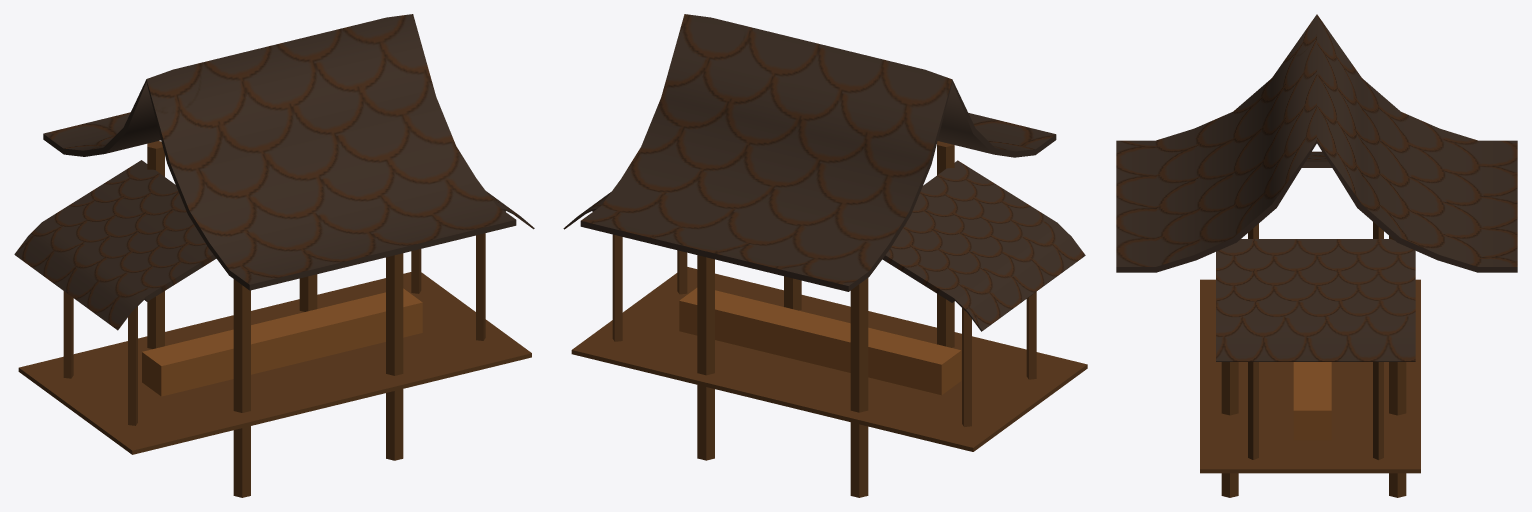
Rendered from barrack_md.fbx.
3 views of the same model, side by side, from view 1: azimuth 30°, elevation 25°; view 2: azimuth 150°, elevation 25°; view 3: azimuth 270°, elevation 25° (orthographic). The views are drawn at different scales.
Visible parts, largest first — view 1: pPlane1, pCube1, pPlane3, pCube2, pCylinder25, pCylinder24, pCylinder26, pCylinder20, pCylinder21, pCylinder16, pCylinder23; view 2: pPlane1, pCube1, pPlane3, pCube2, pCylinder26, pCylinder23, pCylinder25, pCylinder22, pCylinder16, pCylinder20; view 3: pPlane1, pPlane2, pCube1, pCube2, pCylinder23, pCylinder24, pCylinder21, pCylinder22.
Part boxes in pixels (box(x1,y1,x2,y2)): pPlane1: box(43, 14, 516, 290); pCube1: box(18, 272, 531, 454); pPlane3: box(14, 160, 216, 330); pCube2: box(142, 288, 422, 396); pCylinder25: box(233, 279, 250, 497); pCylinder24: box(386, 253, 403, 460); pCylinder26: box(147, 141, 164, 348); pCylinder20: box(128, 306, 137, 425); pCylinder21: box(476, 233, 485, 340); pCylinder16: box(63, 291, 73, 378); pCylinder23: box(299, 274, 317, 311); pPlane1: box(580, 14, 1056, 291); pCube1: box(571, 267, 1087, 451); pPlane3: box(882, 160, 1085, 331); pCube2: box(679, 288, 961, 395); pCylinder26: box(850, 278, 868, 497); pCylinder23: box(697, 255, 714, 460); pCylinder25: box(937, 141, 954, 347); pCylinder22: box(612, 234, 622, 341); pCylinder16: box(962, 308, 971, 426); pCylinder20: box(1026, 292, 1036, 379); pPlane1: box(1116, 14, 1517, 272); pPlane2: box(1216, 239, 1415, 361); pCube1: box(1200, 279, 1420, 473); pCube2: box(1293, 362, 1331, 440); pCylinder23: box(1389, 236, 1406, 497); pCylinder24: box(1221, 362, 1238, 497); pCylinder21: box(1248, 362, 1258, 459); pCylinder22: box(1373, 362, 1383, 459).
Bounding box in the file's own units: 86.66 × 78.87 × 74.32.
Materials: 1 (1 with a texture image).
